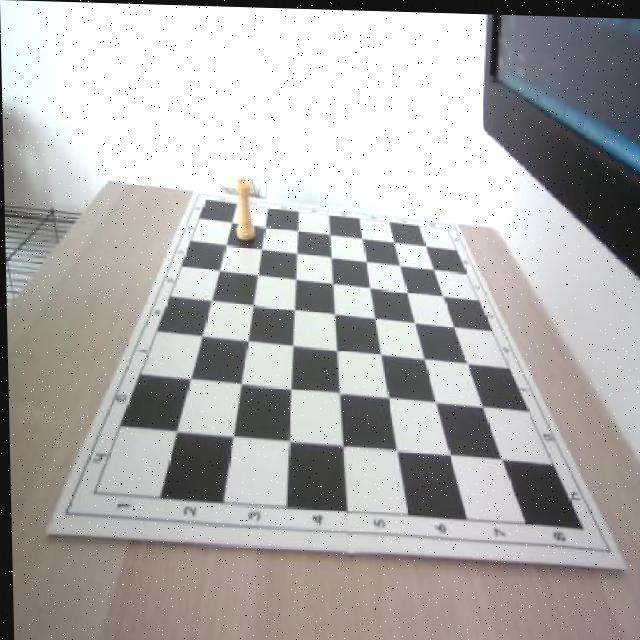white-queen: (232, 173, 255, 241)
